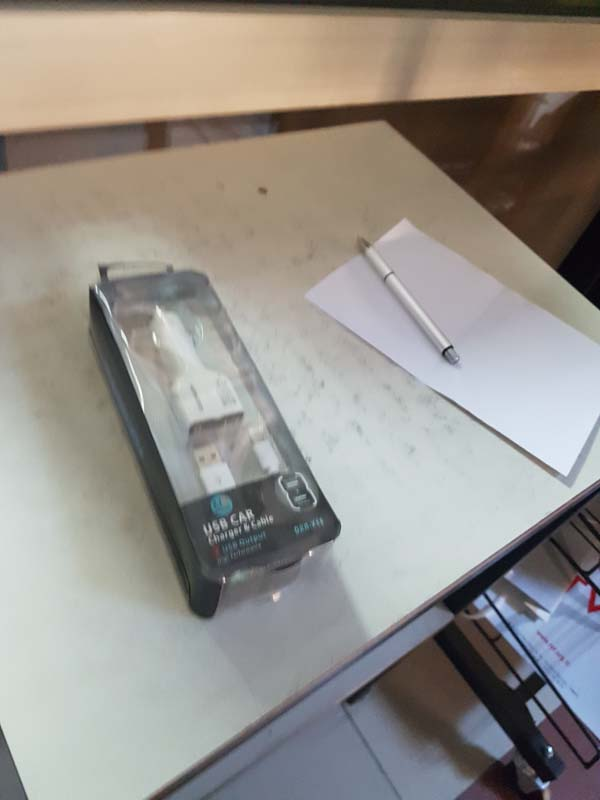usbcarcharger: (82, 247, 347, 616)
